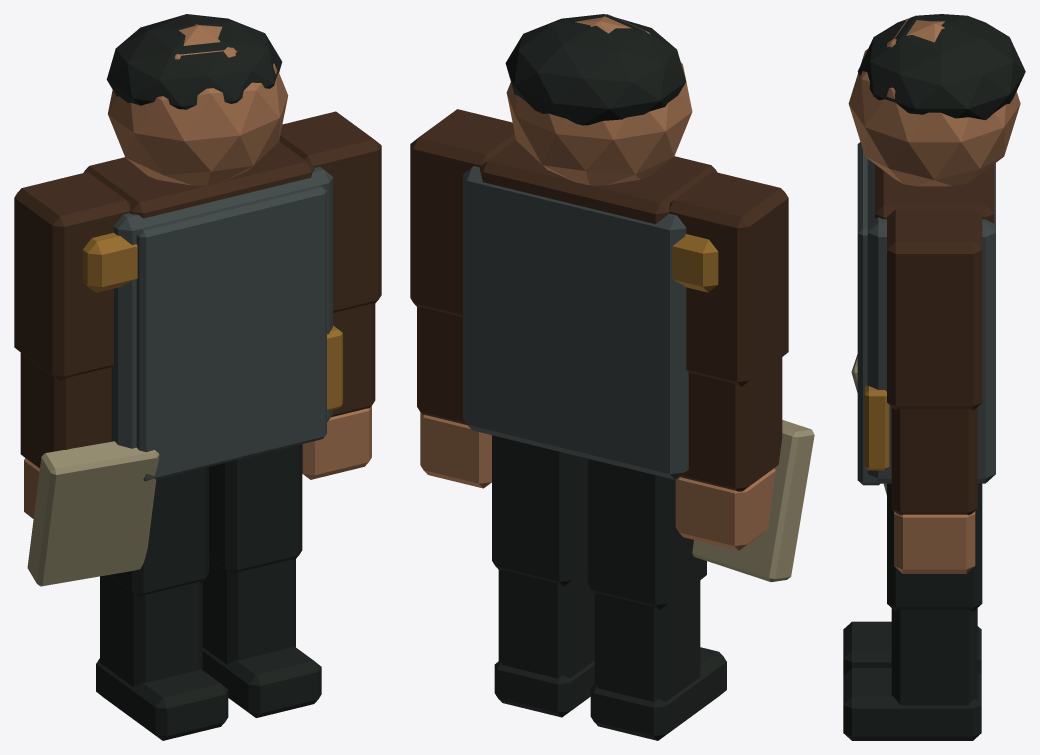
File: NeraFoundryQuartermaster.glb
3 views of the same model, side by side, from view 1: azimuth 30°, elevation 25°; view 2: azimuth 150°, elevation 25°; view 3: azimuth 270°, elevation 25° (orthographic). The views are drawn at different scales.
Parts seen in each view (by area): view 1: UpperTorso_ForgeApron, LeftUpperArm, LeftHand_StockLedger, Head, Head_HairCap, RightUpperArm, RightUpperLeg, LeftLowerLeg, RightLowerLeg, UpperTorso_Tunic, LeftLowerArm, LeftUpperLeg (+8 smaller); view 2: UpperTorso_Tunic, LeftUpperArm, Head_HairCap, LeftUpperLeg, RightUpperLeg, RightUpperArm, Head, LeftLowerLeg, LeftLowerArm, RightLowerLeg, UpperTorso, LeftHand_StockLedger (+6 smaller); view 3: RightUpperArm, Head_HairCap, Head, RightLowerArm, UpperTorso_Tunic, RightLowerLeg, RightFoot, RightHand, RightUpperLeg, UpperTorso, UpperTorso_ForgeApron, LeftFoot (+1 smaller).
Part boxes in pixels (x1,y1,x2,y2): UpperTorso_ForgeApron: (136, 185, 326, 481); LeftUpperArm: (14, 172, 130, 381); LeftHand_StockLedger: (27, 441, 159, 586); Head: (108, 24, 288, 185); Head_HairCap: (106, 14, 282, 109); RightUpperArm: (279, 111, 381, 312); RightUpperLeg: (209, 444, 302, 574); LeftLowerLeg: (100, 575, 202, 687); RightLowerLeg: (202, 558, 295, 664); UpperTorso_Tunic: (111, 166, 332, 448); LeftLowerArm: (20, 352, 111, 468); LeftUpperLeg: (109, 467, 208, 597); UpperTorso_Tunic: (463, 166, 688, 479); LeftUpperArm: (669, 171, 788, 386); Head_HairCap: (505, 14, 686, 125); LeftUpperLeg: (588, 458, 706, 609); RightUpperLeg: (492, 435, 587, 586); RightUpperArm: (410, 109, 515, 316); Head: (506, 14, 692, 185); LeftLowerLeg: (594, 580, 700, 701); LeftLowerArm: (680, 357, 782, 491); RightLowerLeg: (498, 569, 594, 678); UpperTorso: (479, 140, 717, 224); LeftHand_StockLedger: (692, 420, 814, 582); RightUpperArm: (887, 209, 982, 410); Head_HairCap: (857, 14, 1025, 119); Head: (848, 18, 1020, 186); RightLowerArm: (891, 407, 977, 515); UpperTorso_Tunic: (867, 159, 995, 483); RightLowerLeg: (891, 608, 977, 705); RightFoot: (843, 668, 981, 740); RightHand: (894, 511, 975, 573); RightUpperLeg: (887, 483, 982, 611); UpperTorso: (875, 164, 994, 223); UpperTorso_ForgeApron: (857, 142, 879, 485); LeftFoot: (843, 621, 981, 675).
Bounding box in the file's own units: 4.56 × 8.48 × 2.06.
Materials: 1 (1 with a texture image).
